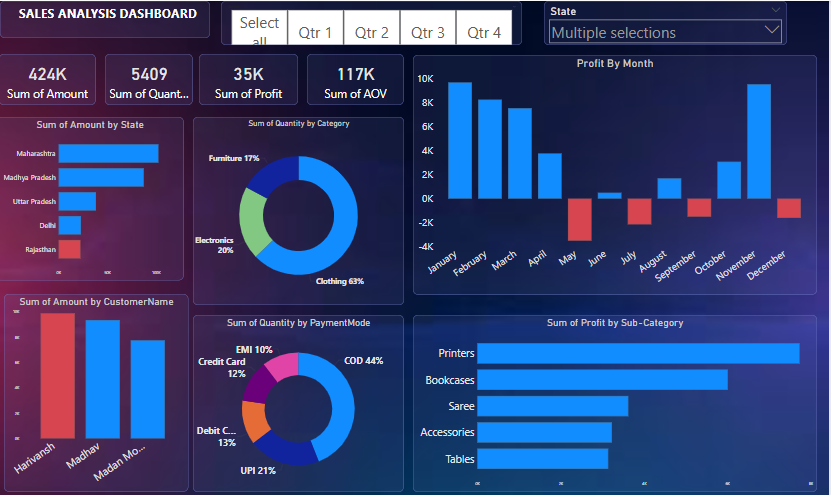

Layout of this report page (visuals, bound fields, positions):
{"tool":"powerbi","page":{"name":"Page 1","canvas":[2500,1500],"ordinal":0},"visuals":[{"type":"textbox","box":[12,0,630,111],"z":0},{"type":"columnChart","title":"Profit By Month","fields":{"Category":["Orders.Order Date.Variation.Date Hierarchy.Month"],"Y":["Details.Profit"]},"box":[1250,160.6,1211.6,719.3],"z":1000},{"type":"barChart","fields":{"Category":["Details.Sub-Category"],"Y":["Details.Profit"]},"box":[1250,942.7,1211.6,530.7],"z":2000},{"type":"donutChart","fields":{"Category":["Details.Category"],"Y":["Details.Quantity"]},"box":[591,348,633,564],"z":3000},{"type":"donutChart","fields":{"Y":["Details.Quantity"],"Category":["Details.PaymentMode"]},"box":[590.1,942.7,632,530.7],"z":4000},{"type":"card","fields":{"Values":["Details.Quantity"]},"box":[326.7,160,263.3,153.3],"z":5000},{"type":"card","fields":{"Values":["Details.Amount"]},"box":[10,160,290,153.3],"z":6000},{"type":"card","fields":{"Values":["Details.Profit"]},"box":[610,160,296.7,153.3],"z":7000},{"type":"card","fields":{"Values":["Details.AOV"]},"box":[933.3,160,290,153.3],"z":8000},{"type":"barChart","fields":{"Category":["Orders.State"],"Y":["Details.Amount"]},"box":[0,346.7,563.3,490],"z":9000},{"type":"columnChart","fields":{"Category":["Orders.CustomerName"],"Y":["Details.Amount"]},"box":[23.3,880,553.3,593.3],"z":10000},{"type":"slicer","fields":{"Values":["Orders.Order Date.Variation.Date Hierarchy.Quarter"]},"box":[675,0,903,132],"z":11000},{"type":"slicer","fields":{"Values":["Orders.State"]},"box":[1644,0,729,132],"z":12000}]}

Visuals, with their boxes in screenshot pixels (x1, y1, x2, y2), scaled from the page's 2500x1500 canvas onto the 831x495 screenshot:
textbox: detection(4, 0, 213, 37)
"Profit By Month" columnChart: detection(415, 53, 818, 290)
barChart - Details.Sub-Category x Details.Profit: detection(415, 311, 818, 486)
donutChart - Details.Category x Details.Quantity: detection(196, 115, 407, 301)
donutChart - Details.Quantity x Details.PaymentMode: detection(196, 311, 406, 486)
card - Details.Quantity: detection(109, 53, 196, 103)
card - Details.Amount: detection(3, 53, 100, 103)
card - Details.Profit: detection(203, 53, 301, 103)
card - Details.AOV: detection(310, 53, 407, 103)
barChart - Orders.State x Details.Amount: detection(0, 114, 187, 276)
columnChart - Orders.CustomerName x Details.Amount: detection(8, 290, 192, 486)
slicer - Orders.Order Date.Variation.Date Hierarchy.Quarter: detection(224, 0, 525, 44)
slicer - Orders.State: detection(546, 0, 789, 44)
